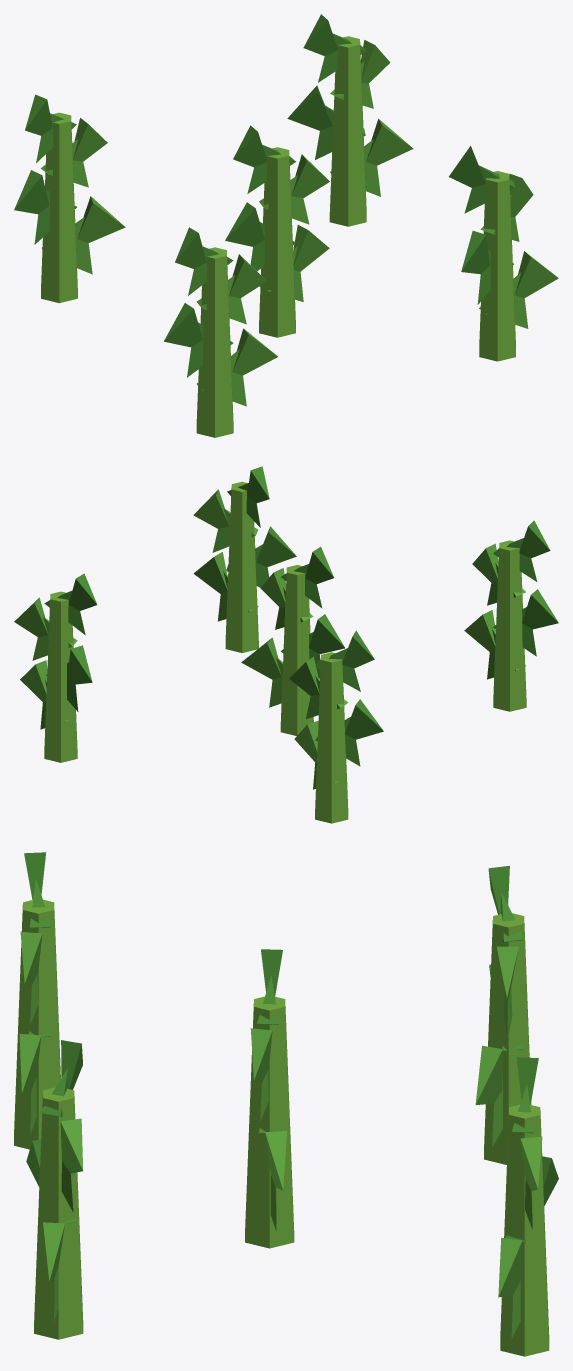
File: corn-2.glb
The picture shows the model from 3 angles, top to bottom: view 1: azimuth 30°, elevation 25°; view 2: azimuth 150°, elevation 25°; view 3: azimuth 270°, elevation 25°; orthographic projection. The views are drawn at different scales.
Parts seen in each view (by area): view 1: corn-2; view 2: corn-2; view 3: corn-2.
Boxes of the visible parts, x1,y1,x2,y2 form: corn-2: (14, 14, 558, 437); corn-2: (14, 466, 558, 823); corn-2: (14, 852, 558, 1356).
Size of the model in its own units: 0.5054 by 0.2333 by 0.4229.
1 material, 1 textured.
